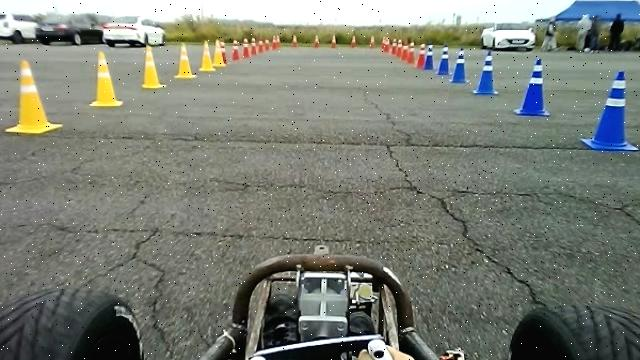blue cone: (580, 70, 640, 151), (515, 56, 552, 116), (474, 50, 499, 94), (450, 47, 471, 83), (438, 43, 452, 75)
red cone: (415, 43, 427, 67), (406, 40, 416, 63), (231, 39, 240, 60), (243, 37, 250, 58), (251, 38, 257, 55)
yellow cone: (5, 59, 64, 134), (90, 50, 124, 106), (142, 43, 167, 89), (175, 41, 197, 78), (200, 38, 217, 70)
